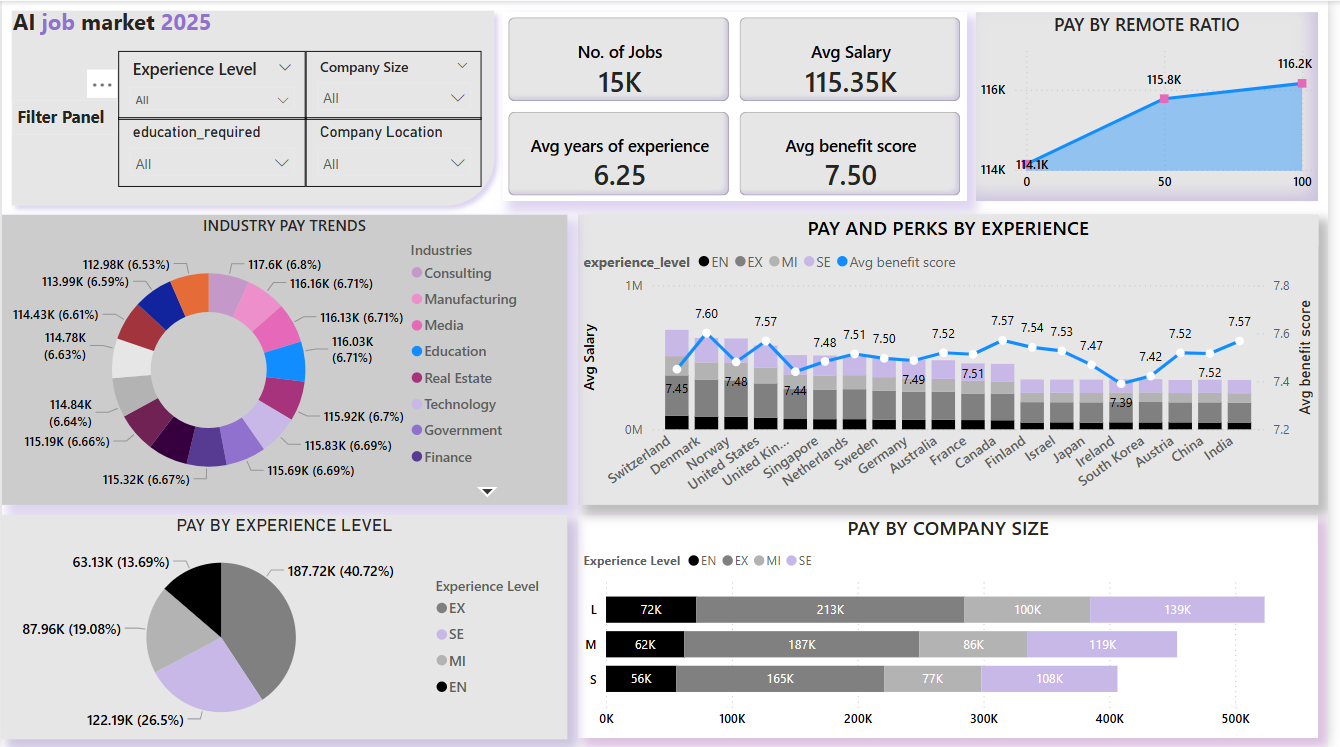

This screenshot's page, from the dashboard's own definition file:
{"tool":"powerbi","page":{"name":"Page 2","canvas":[1280,720],"ordinal":1},"visuals":[{"type":"cardVisual","fields":{"Data":["ai_job_dataset.No. of Jobs","ai_job_dataset.Avg Salary","ai_job_dataset.Avg years of experience","ai_job_dataset.Avg benefit score"]},"box":[483.8,10.9,447.6,182.2],"z":0},{"type":"shape","box":[0,0,484.2,206.7],"z":1000},{"type":"lineStackedColumnComboChart","title":"PAY AND PERKS BY EXPERIENCE","fields":{"Category":["ai_job_dataset.company_location"],"Y":["ai_job_dataset.Avg Salary"],"Y2":["ai_job_dataset.Avg benefit score"],"Series":["ai_job_dataset.experience_level"]},"box":[556.4,206.7,714.1,280],"z":2000},{"type":"textbox","box":[0,0,212.8,47.7],"z":3000},{"type":"donutChart","title":"INDUSTRY PAY TRENDS","fields":{"Y":["ai_job_dataset.Avg Salary"],"Category":["ai_job_dataset.industry"]},"box":[0,206.7,545.4,280],"z":4000},{"type":"pieChart","title":"PAY BY EXPERIENCE LEVEL","fields":{"Y":["ai_job_dataset.Avg Salary"],"Category":["ai_job_dataset.experience_level"]},"box":[0,495.2,545.4,216.4],"z":5000},{"type":"barChart","title":"PAY BY COMPANY SIZE","fields":{"Y":["ai_job_dataset.Avg Salary"],"Category":["ai_job_dataset.company_size"],"Series":["ai_job_dataset.experience_level"]},"box":[556,496,714,215],"z":6000},{"type":"areaChart","title":"PAY BY REMOTE RATIO","fields":{"Category":["ai_job_dataset.remote_ratio"],"Y":["ai_job_dataset.Avg Salary"]},"box":[940.4,11,330.2,182.2],"z":7000},{"type":"slicer","fields":{"Values":["ai_job_dataset.experience_level"]},"box":[112.5,47.7,181,66],"z":8000},{"type":"slicer","fields":{"Values":["ai_job_dataset.company_size"]},"box":[293.5,47.7,170,66],"z":9000},{"type":"slicer","fields":{"Values":["ai_job_dataset.company_location"]},"box":[293.5,112.5,170,67.3],"z":10000},{"type":"slicer","fields":{"Values":["ai_job_dataset.education_required"]},"box":[112.5,112.5,181,67.3],"z":11000},{"type":"textbox","box":[9.8,95.4,102.7,34.2],"z":12000}]}

Visuals, with their boxes in screenshot pixels (x1, y1, x2, y2), scaled from the page's 1280x720 canvas onto the 1340x747 screenshot:
cardVisual - ai_job_dataset.No. of Jobs x ai_job_dataset.Avg Salary: 506:11:975:200
shape: 0:0:507:214
"PAY AND PERKS BY EXPERIENCE" lineStackedColumnComboChart: 582:214:1330:505
textbox: 0:0:223:49
"INDUSTRY PAY TRENDS" donutChart: 0:214:571:505
"PAY BY EXPERIENCE LEVEL" pieChart: 0:514:571:738
"PAY BY COMPANY SIZE" barChart: 582:515:1330:738
"PAY BY REMOTE RATIO" areaChart: 984:11:1330:200
slicer - ai_job_dataset.experience_level: 118:49:307:118
slicer - ai_job_dataset.company_size: 307:49:485:118
slicer - ai_job_dataset.company_location: 307:117:485:187
slicer - ai_job_dataset.education_required: 118:117:307:187
textbox: 10:99:118:134
